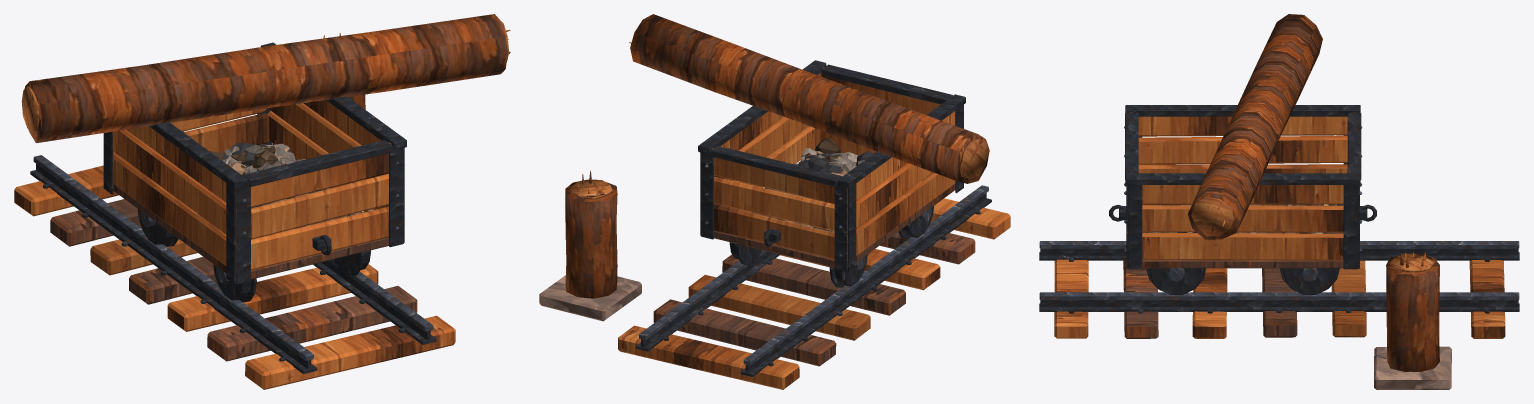
Rendered from lw_cart_jammed.glb.
3 views of the same model, side by side, from view 1: azimuth 30°, elevation 25°; view 2: azimuth 150°, elevation 25°; view 3: azimuth 270°, elevation 25° (orthographic). The views are drawn at different scales.
Visible parts, largest first — view 1: model; view 2: model; view 3: model.
Part boxes in pixels (left/top/right/bottom): model: left=14, top=14, right=510, bottom=389; model: left=539, top=14, right=1010, bottom=389; model: left=1039, top=14, right=1519, bottom=389.
Bounding box in the file's own units: 1.85 × 0.9311 × 1.98.
Materials: 21 (18 with a texture image).
